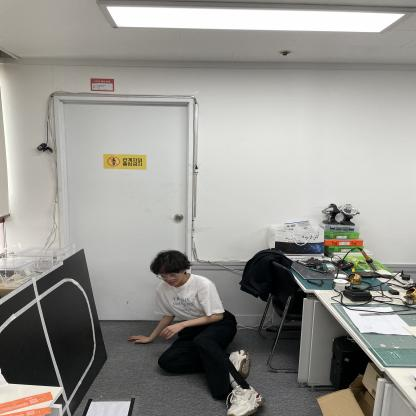fall: (137, 245, 265, 416)
